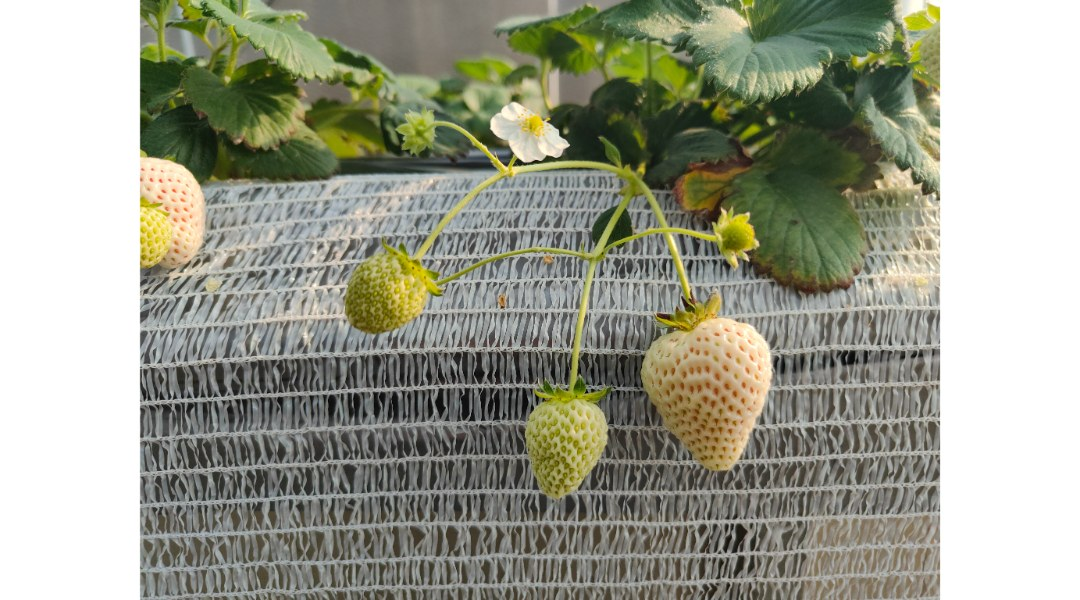berry: (642, 285, 770, 483), (525, 380, 606, 500), (335, 238, 424, 340), (705, 205, 765, 267), (391, 99, 443, 163)
flower: (481, 92, 576, 162)
strain: (440, 237, 587, 291), (642, 180, 701, 302), (418, 176, 497, 255), (568, 266, 601, 391), (522, 162, 625, 193), (594, 181, 637, 249), (606, 224, 712, 247)
